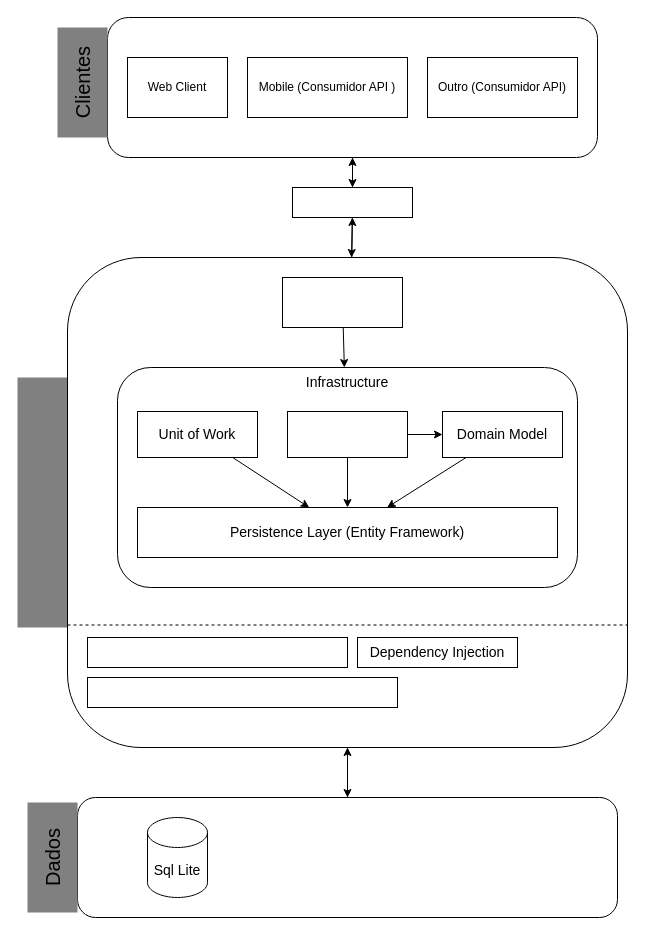
The diagram is 646 pixels wide and 935 high, and some of its shapes have lost their labels. The shapes that lost their labels are listed below. From the top down, each one's centre as x and y in pixels, then its label:
At (352,202): "ViewModels".
At (342,302): "Serviços".
At (347,434): "Repositórios".
At (42,502): "Camada de Serviços".
At (217,652): "AutoMapper (ViewModels <-> Models)".
At (242,692): "Validation Layer (Utilizado o FluentValidation)".
